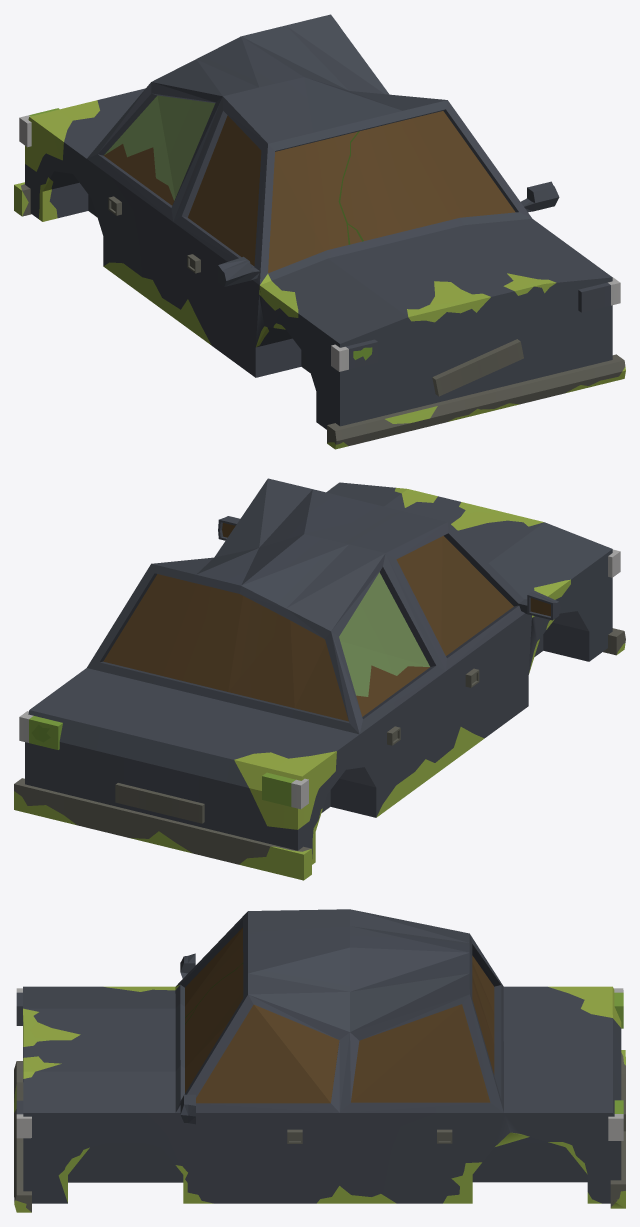
The model's file is OldCar_01.fbx.
The picture shows the model from 3 angles, top to bottom: view 1: azimuth 30°, elevation 25°; view 2: azimuth 150°, elevation 25°; view 3: azimuth 270°, elevation 25°; orthographic projection. The views are drawn at different scales.
Visible parts, largest first — view 1: OldCar_01; view 2: OldCar_01; view 3: OldCar_01.
Part boxes in pixels (<box>): OldCar_01: <box>14,14,625,449</box>; OldCar_01: <box>14,478,625,880</box>; OldCar_01: <box>14,909,625,1212</box>.
Bounding box in the file's own units: 1.96 × 1.17 × 3.26.
